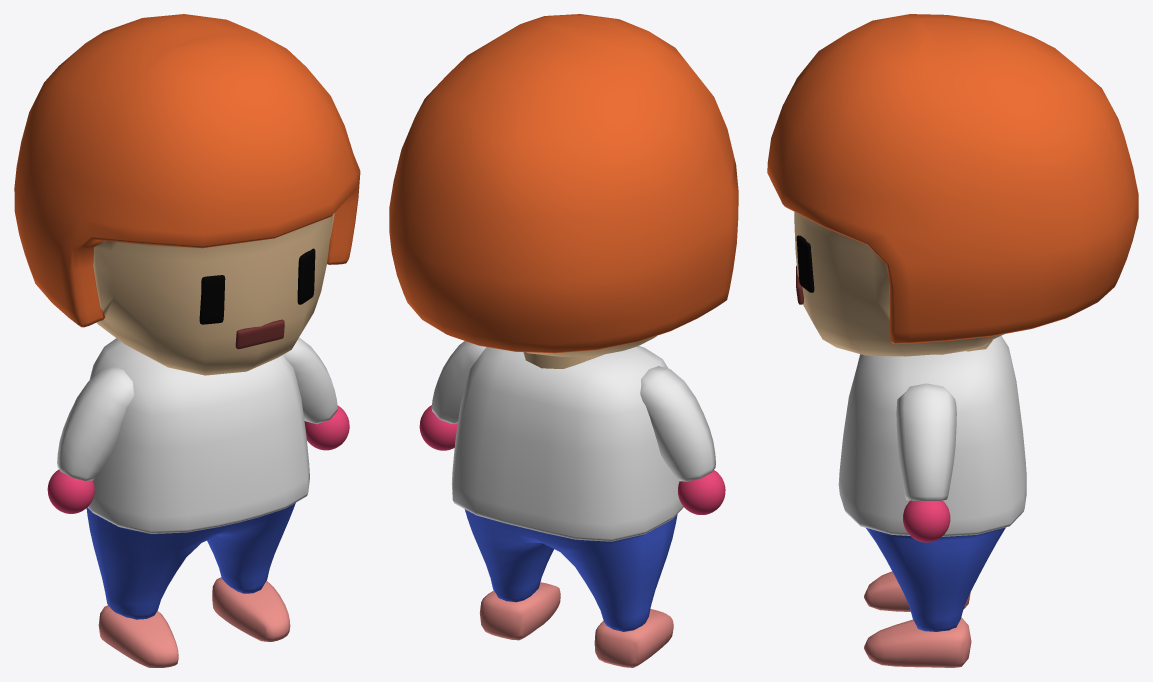
File: idle.fbx
3 views of the same model, side by side, from view 1: azimuth 30°, elevation 25°; view 2: azimuth 150°, elevation 25°; view 3: azimuth 270°, elevation 25° (orthographic).
Visible parts, largest first — view 1: character; view 2: character; view 3: character.
Part boxes in pixels (<box>): character: <box>14,14,360,667</box>; character: <box>389,14,738,667</box>; character: <box>767,14,1138,667</box>.
Size of the model in its own units: 321 by 618 by 346.
